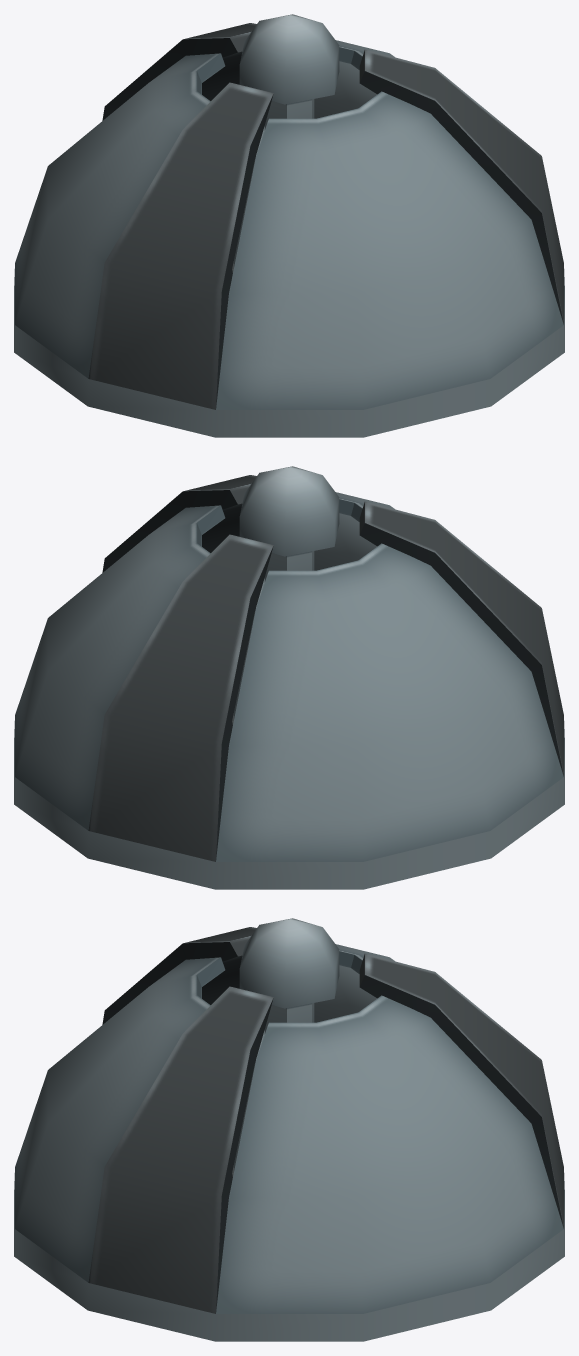
File: item_Shield.FBX
3 renders of one model, top to bottom at view 1: azimuth 30°, elevation 25°; view 2: azimuth 150°, elevation 25°; view 3: azimuth 270°, elevation 25°, orthographic.
Parts seen in each view (by area): view 1: Shield; view 2: Shield; view 3: Shield.
Boxes of the visible parts, x1,y1,x2,y2 form: Shield: (14, 14, 564, 437); Shield: (14, 466, 564, 889); Shield: (14, 918, 564, 1341).
Bounding box in the file's own units: 0.1876 × 0.1149 × 0.1876.
